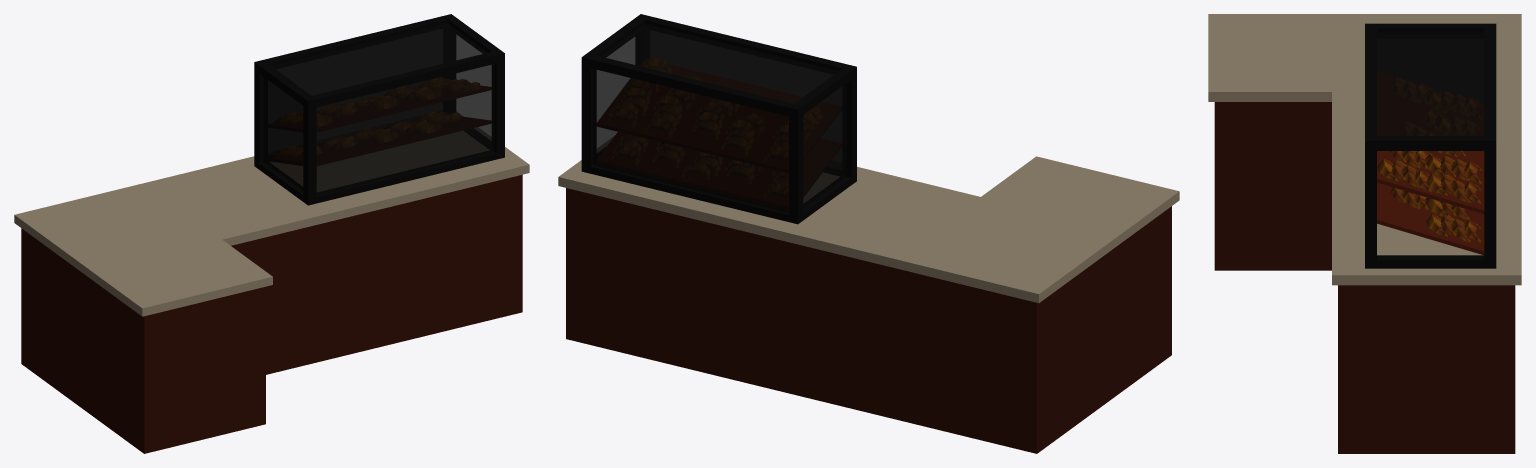
Rendered from Cafe Bench 1.fbx.
3 views of the same model, side by side, from view 1: azimuth 30°, elevation 25°; view 2: azimuth 150°, elevation 25°; view 3: azimuth 270°, elevation 25° (orthographic). The views are drawn at different scales.
Parts seen in each view (by area): view 1: pCube163; view 2: pCube163; view 3: pCube163.
Boxes of the visible parts, x1,y1,x2,y2 form: pCube163: (14,14,529,453); pCube163: (558,14,1179,453); pCube163: (1208,14,1521,453).
Size of the model in its own units: 242 by 134 by 123.
